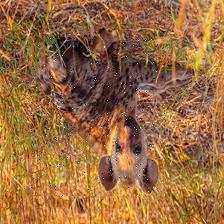hyena: (29, 37, 164, 195)
